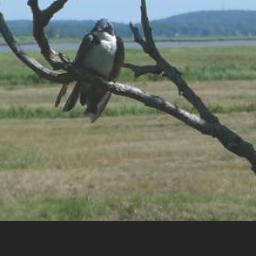Swallow: (52, 15, 128, 125)
